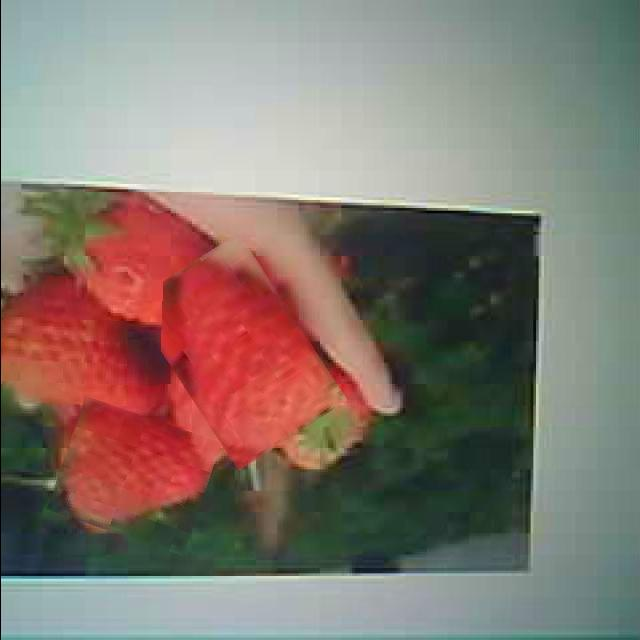strawberry: (150, 242, 324, 461), (1, 272, 160, 414), (54, 406, 214, 546)
